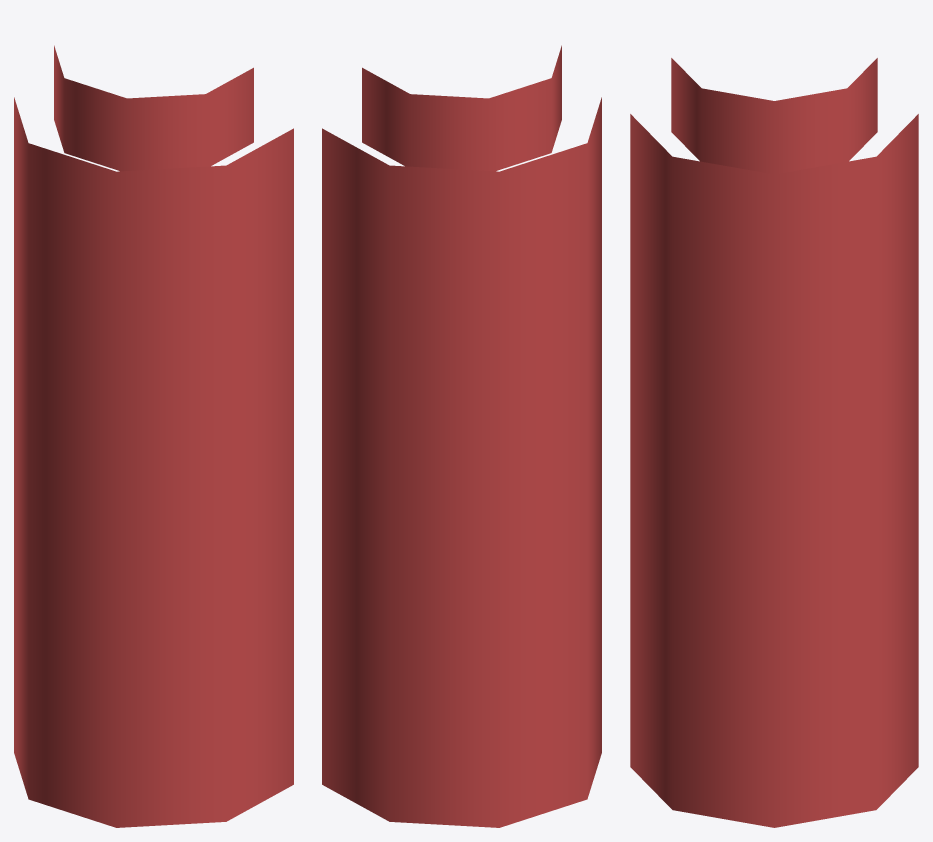
Rendered from fire_hydrant.glb.
3 renders of one model, left to right at view 1: azimuth 30°, elevation 25°; view 2: azimuth 150°, elevation 25°; view 3: azimuth 270°, elevation 25°, orthographic.
Parts seen in each view (by area): view 1: fire_hydrant; view 2: fire_hydrant; view 3: fire_hydrant.
Part boxes in pixels (<box>): fire_hydrant: <box>14,45,293,827</box>; fire_hydrant: <box>322,45,601,827</box>; fire_hydrant: <box>630,58,918,827</box>.
Size of the model in its own units: 0.28 by 0.76 by 0.28.
